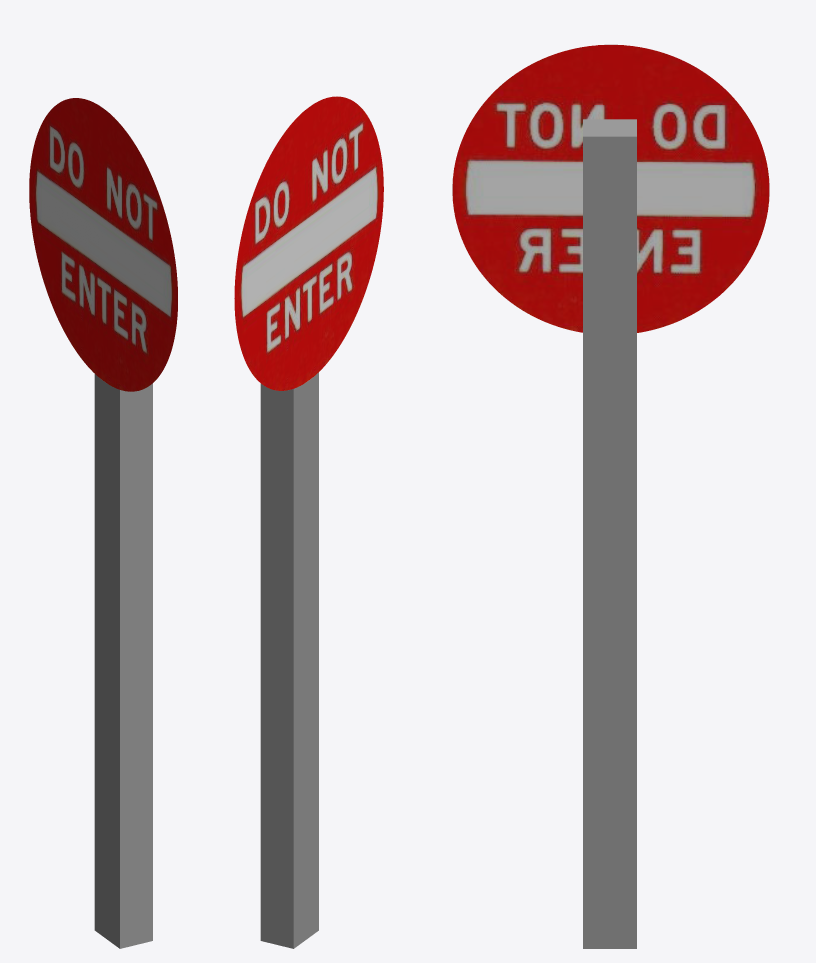
Rendered from StreetSign_DontEnter 1.fbx.
3 views of the same model, side by side, from view 1: azimuth 30°, elevation 25°; view 2: azimuth 150°, elevation 25°; view 3: azimuth 270°, elevation 25° (orthographic). The views are drawn at different scales.
Parts seen in each view (by area): view 1: pCube2, pPlane15; view 2: pCube2, pPlane15; view 3: pPlane15, pCube2.
Boxes of the visible parts, x1,y1,x2,y2 form: pCube2: [94, 374, 152, 948]; pPlane15: [29, 98, 177, 391]; pCube2: [260, 372, 318, 948]; pPlane15: [234, 96, 383, 390]; pPlane15: [452, 44, 769, 332]; pCube2: [583, 119, 636, 948].
Size of the model in its own units: 0.4442 by 10.13 by 3.78.
